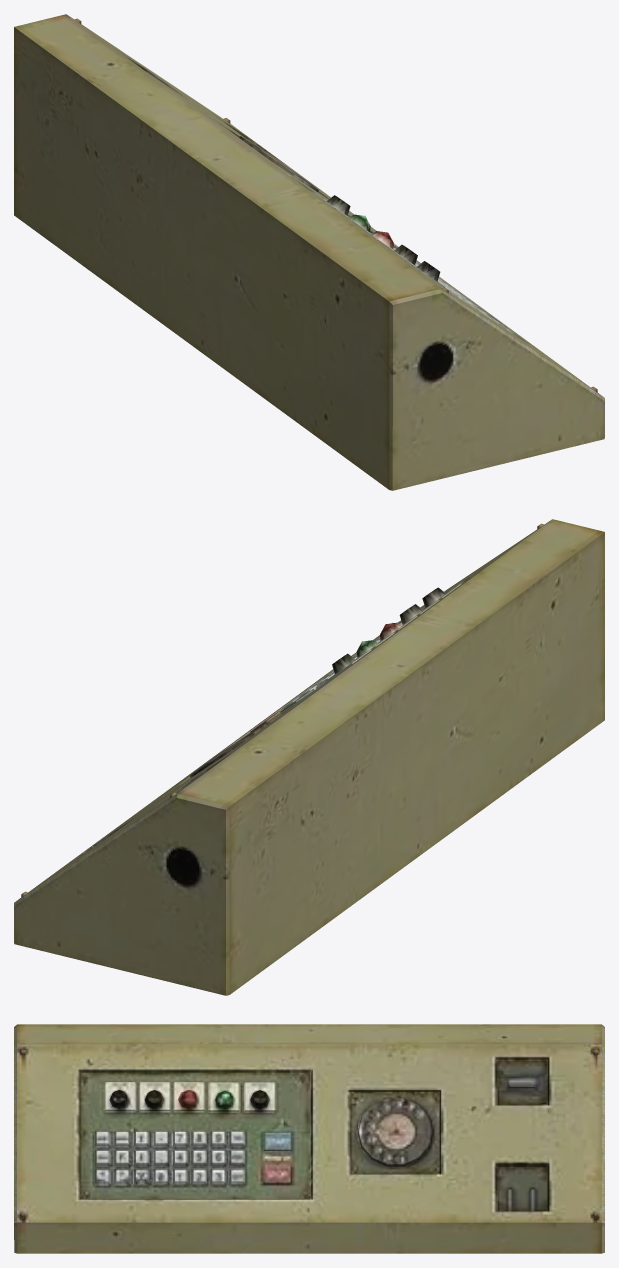
Rendered from desk_console1a.glb.
3 renders of one model, top to bottom at view 1: azimuth 30°, elevation 25°; view 2: azimuth 150°, elevation 25°; view 3: azimuth 270°, elevation 25°, orthographic. The views are drawn at different scales.
Visible parts, largest first — view 1: 1_desk_console2, 0_desk_console1; view 2: 1_desk_console2, 0_desk_console1; view 3: 0_desk_console1, 1_desk_console2.
Part boxes in pixels (x1,y1,x2,y2): 1_desk_console2: (14, 14, 604, 490); 0_desk_console1: (69, 16, 601, 395); 1_desk_console2: (14, 519, 604, 995); 0_desk_console1: (17, 520, 550, 900); 0_desk_console1: (17, 1044, 601, 1222); 1_desk_console2: (14, 1024, 604, 1253).
Size of the model in its own units: 0.4087 by 0.3411 by 1.24.
2 materials, 2 textured.
